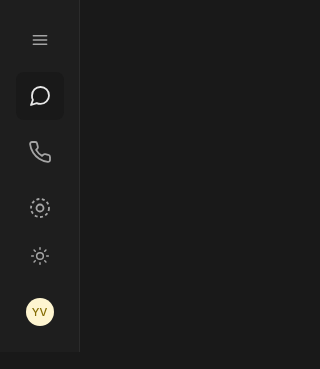
Test: NavRail › expands to show labels when the menu button is used
Click the button named "menu": (40, 40) [16,16,64,64]
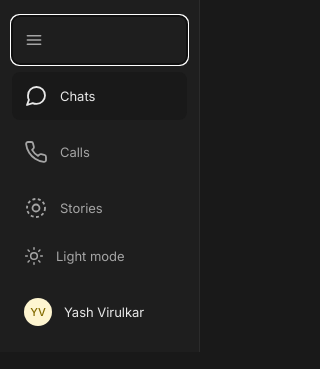
Expected: the elements with test id "rail-label" read "Chats", "Calls", "Stories", in this order, [60,87,95,105]; [60,143,90,161]; [60,199,103,217]
